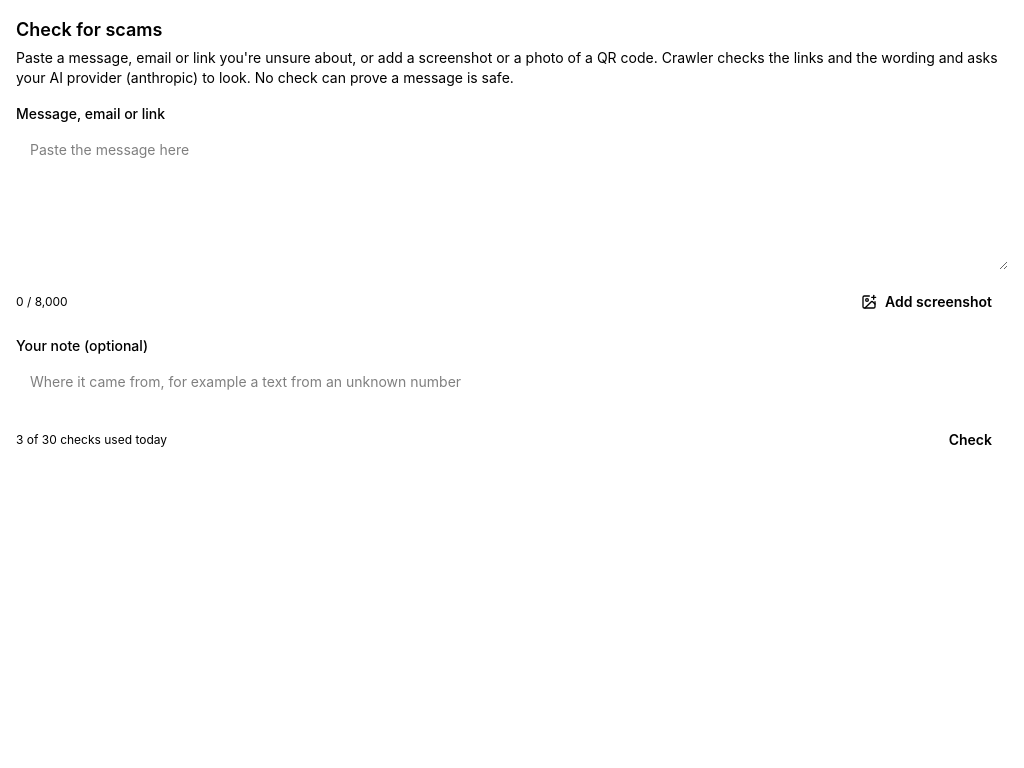
Test: ScamCheckTab › an AI reason holding https://x.example renders no anchor
This screenshot has width=1024, height=768.
Expected: the heading "Check for scams" is shown, [16,19,162,40]
Step 1. Type "Log in here" into the text box labelled "Message, email or link" → (512, 200), box [16,130,1008,270]
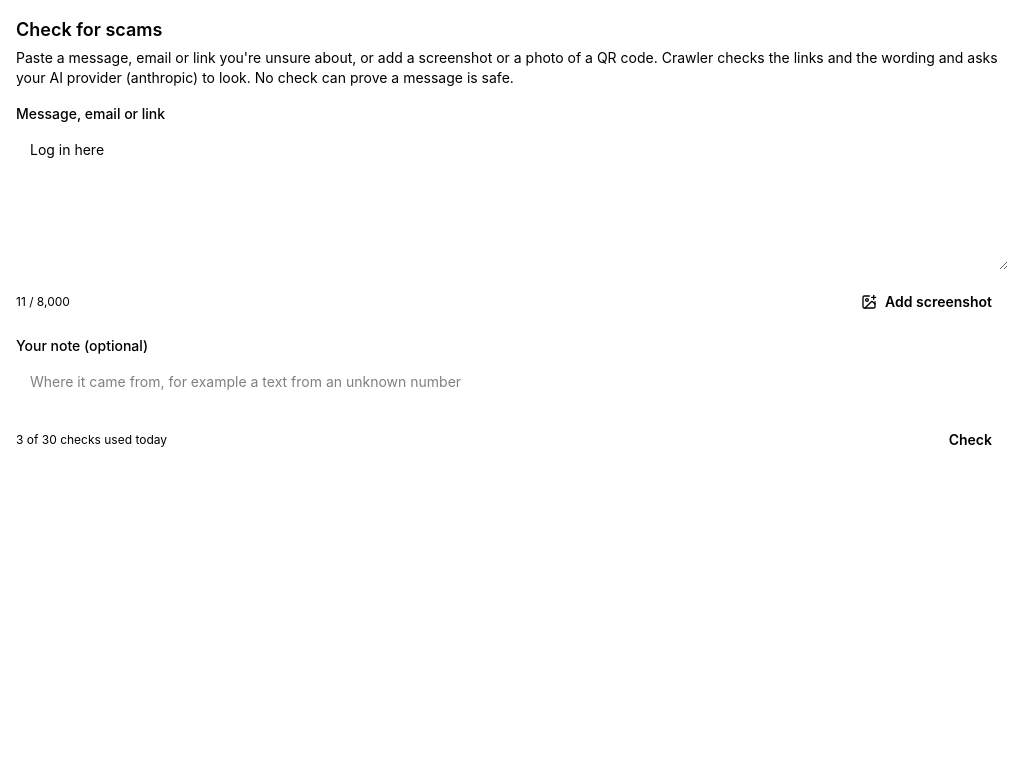
Step 2. Click the button "Check" → (970, 440), box [933,418,1008,462]
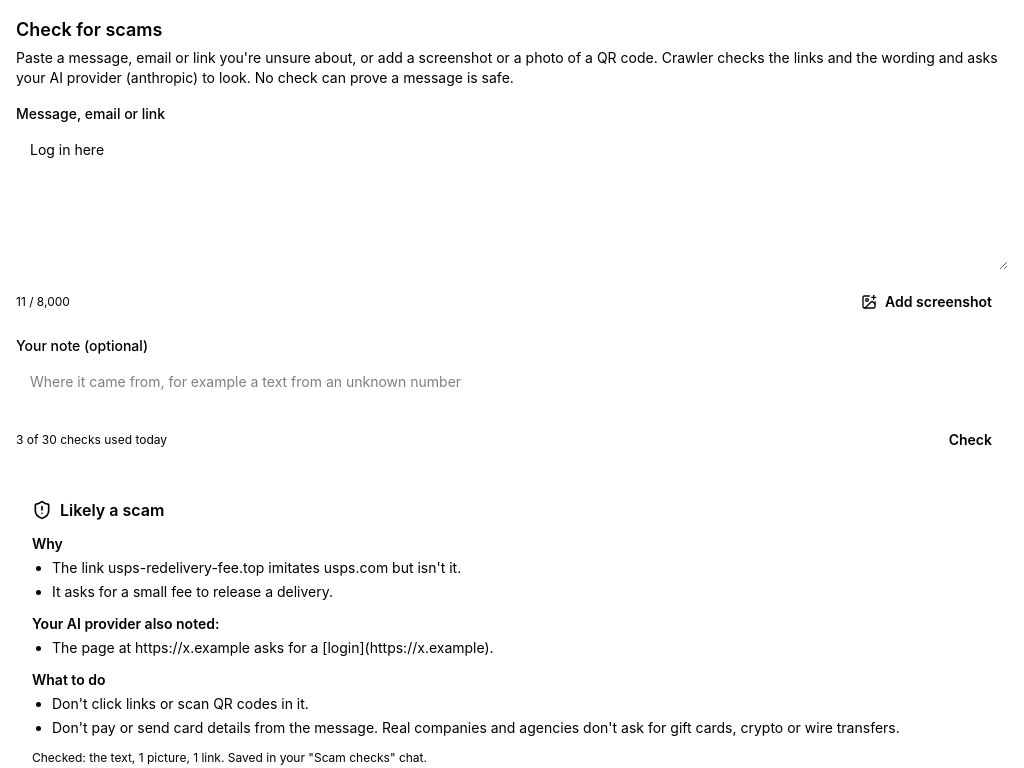
Now the list item "The page at https://x.example asks for a [login](https://x.example)." is shown, box [52,639,494,656]
